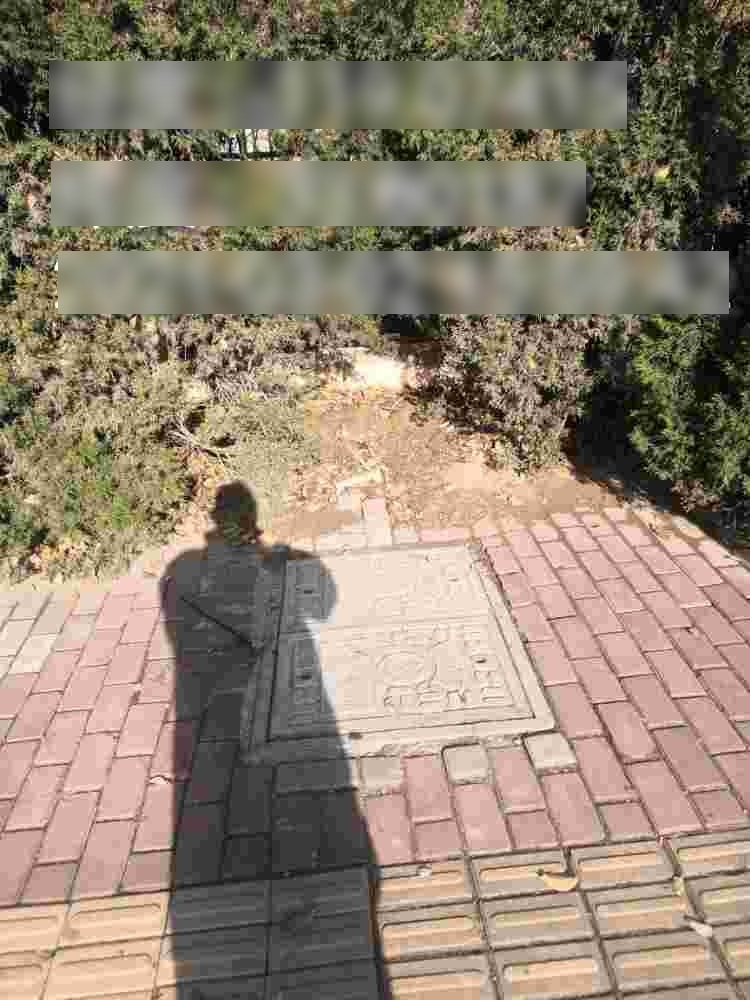good: (252, 536, 557, 759)
